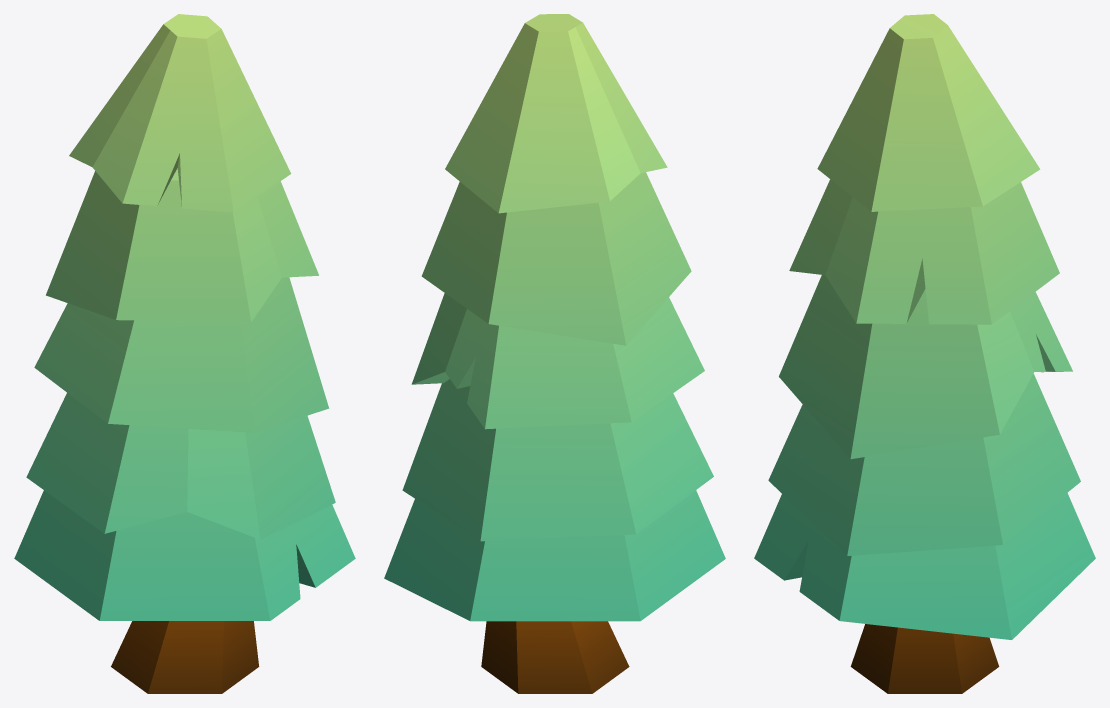
Rendered from tree2.glb.
3 renders of one model, left to right at view 1: azimuth 30°, elevation 25°; view 2: azimuth 150°, elevation 25°; view 3: azimuth 270°, elevation 25°, orthographic.
Visible parts, largest first — view 1: Cylinder; view 2: Cylinder; view 3: Cylinder.
Boxes of the visible parts, <box> form: Cylinder: <box>14,14,355,693</box>; Cylinder: <box>384,14,725,693</box>; Cylinder: <box>754,14,1095,693</box>.
Bounding box in the file's own units: 3.98 × 9.57 × 4.6.
1 material, 1 textured.
